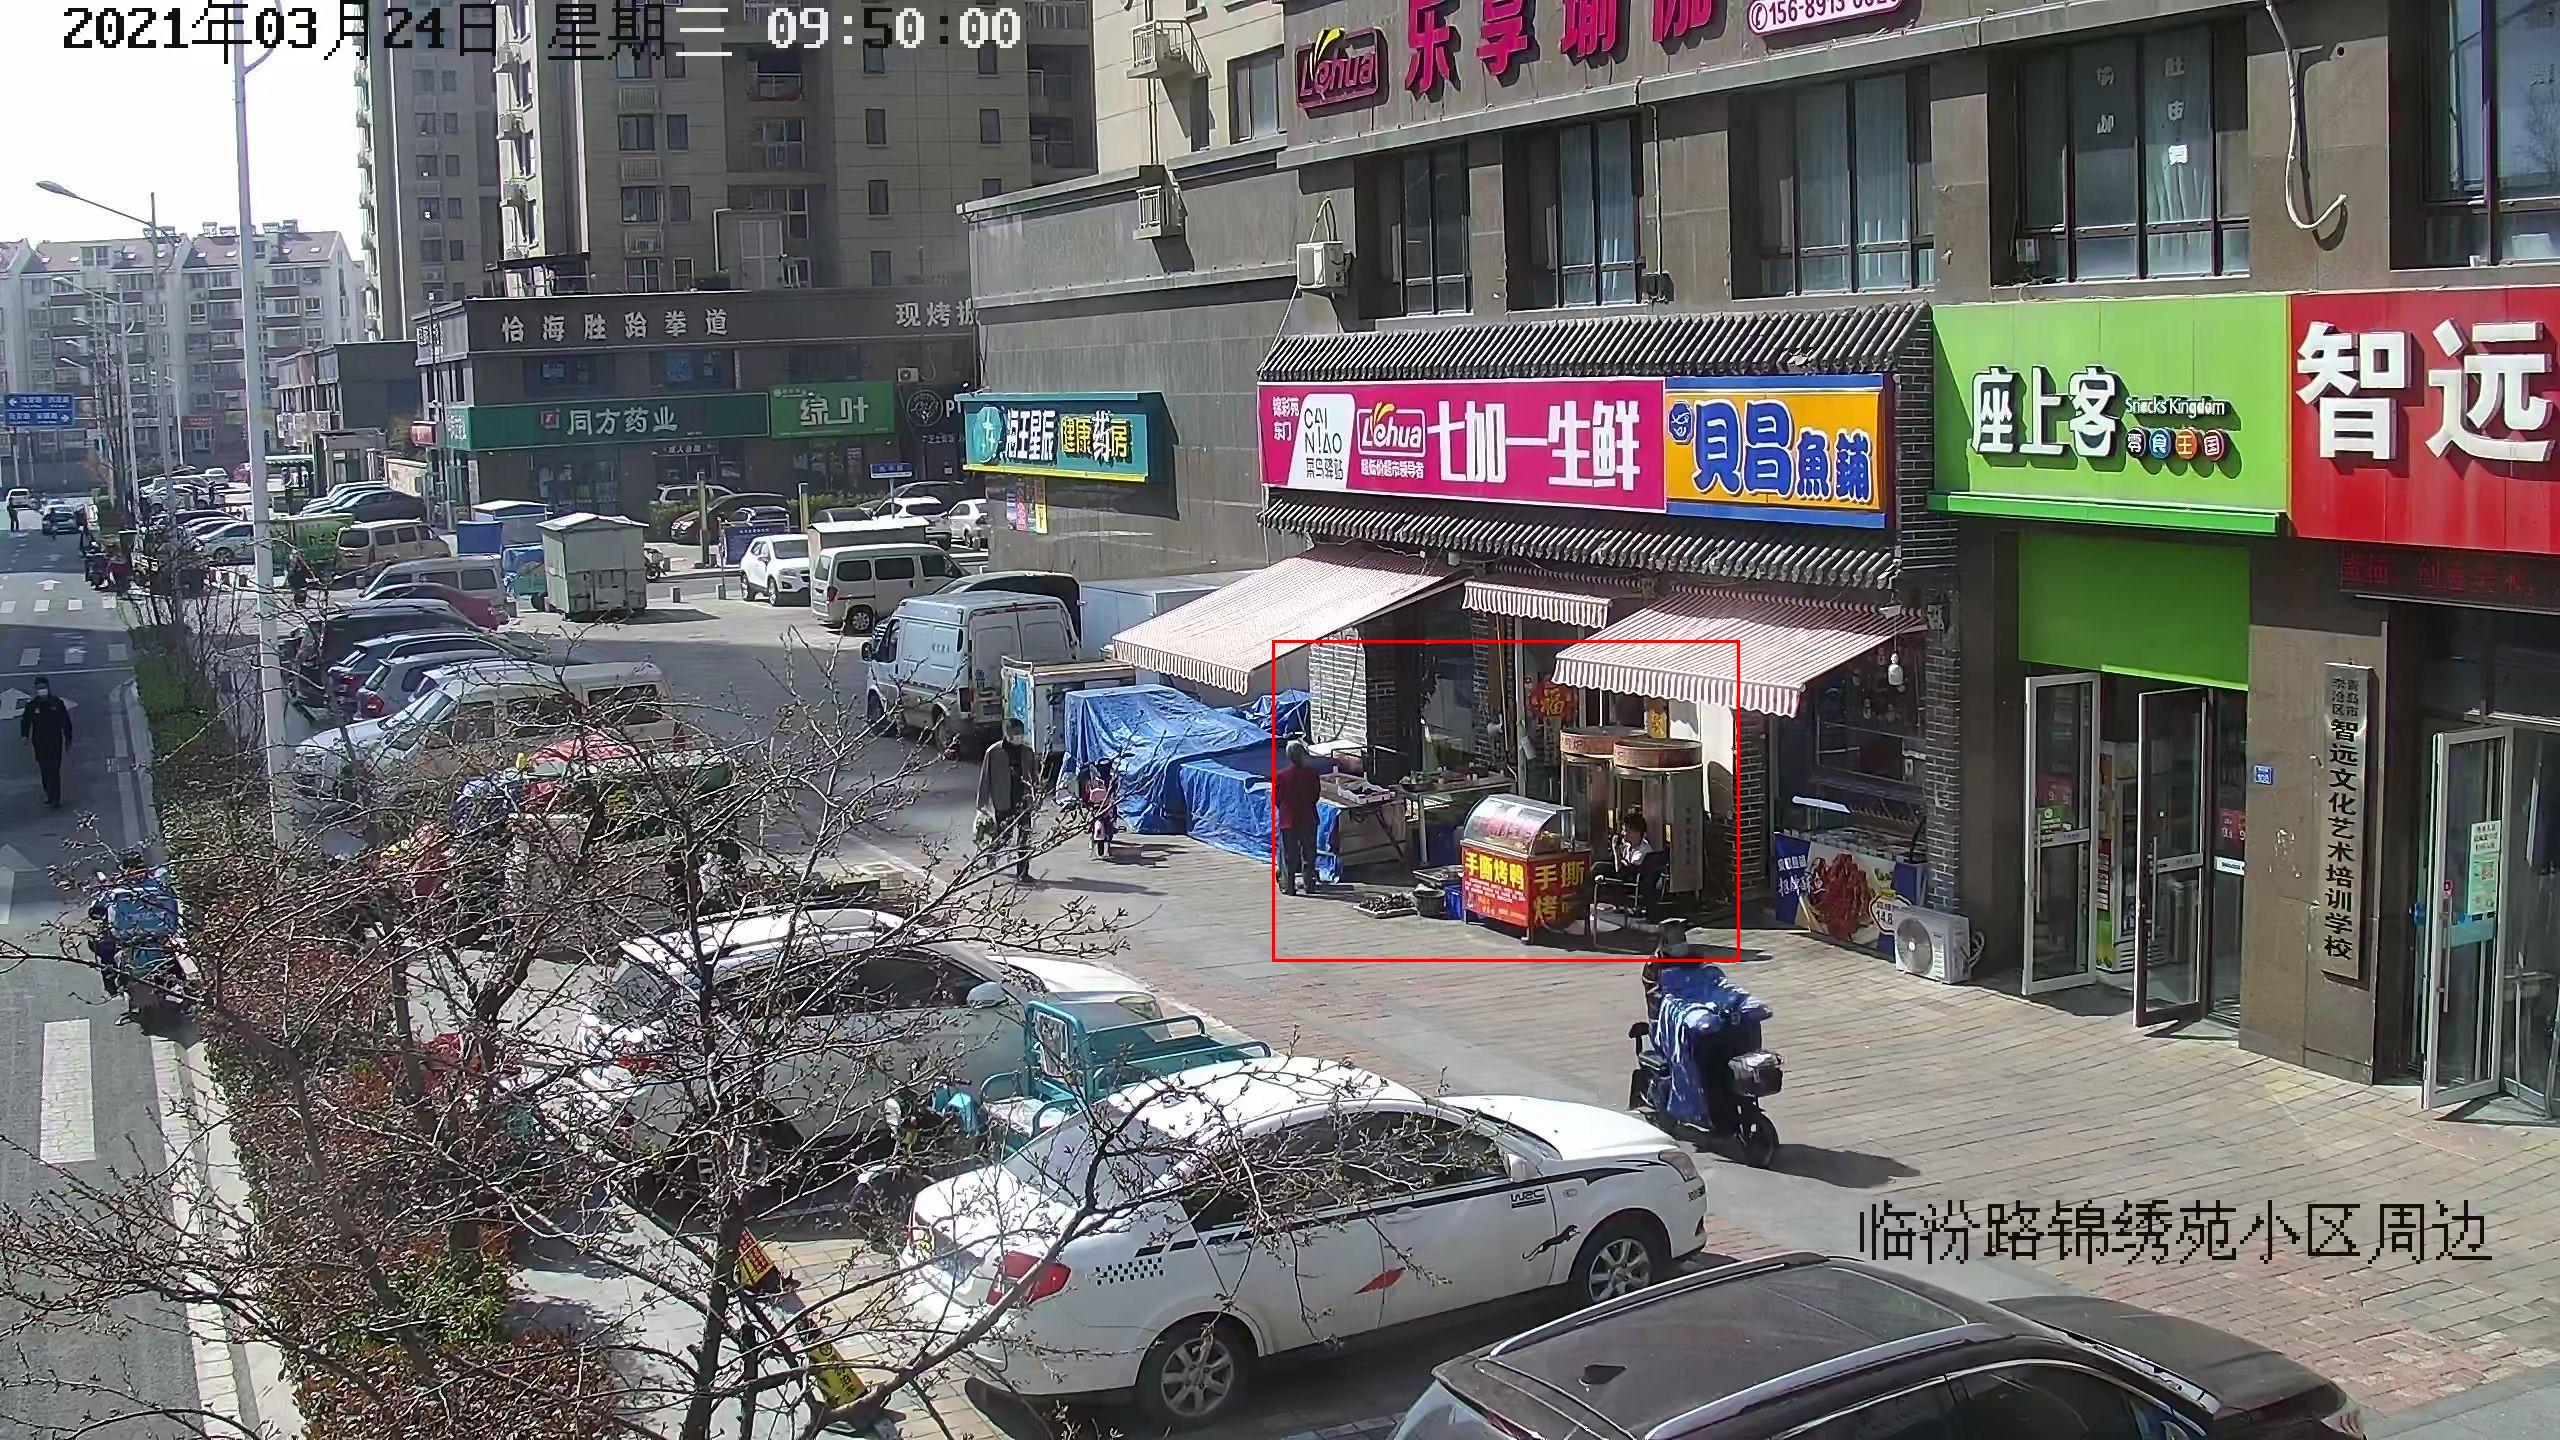chair: (1591, 847, 1672, 955)
